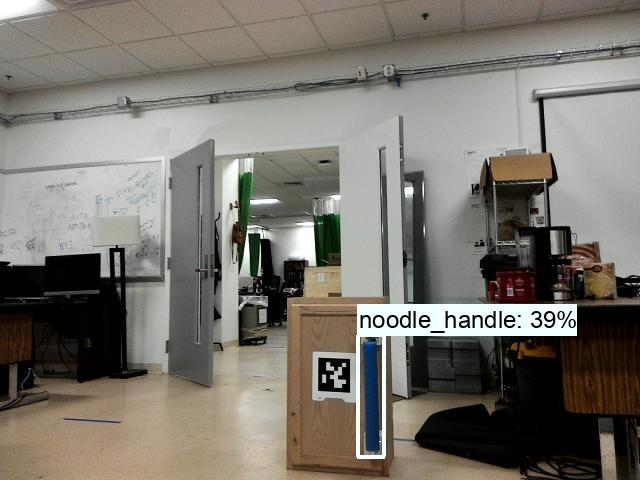noodle_handle: (359, 338, 382, 453)
